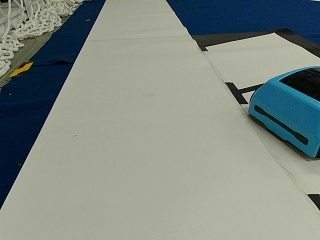car: (248, 63, 317, 157)
